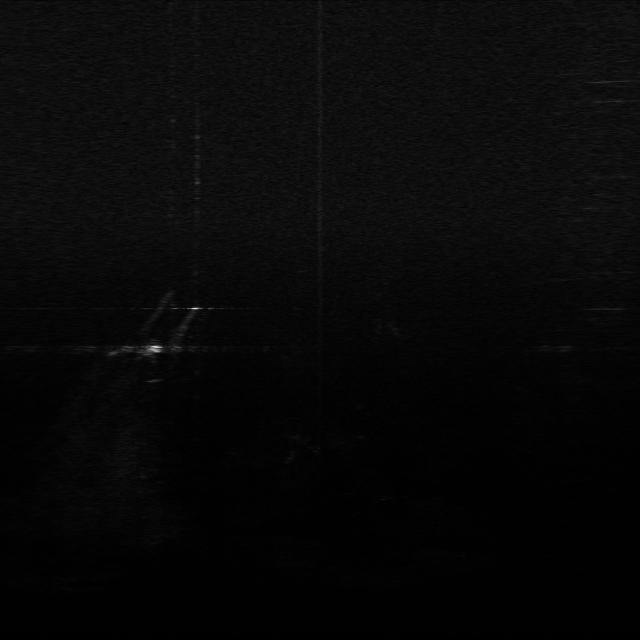rov: (143, 340, 167, 358)
